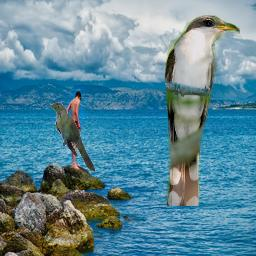Cuckoo: (163, 14, 240, 206), (48, 102, 97, 172)
